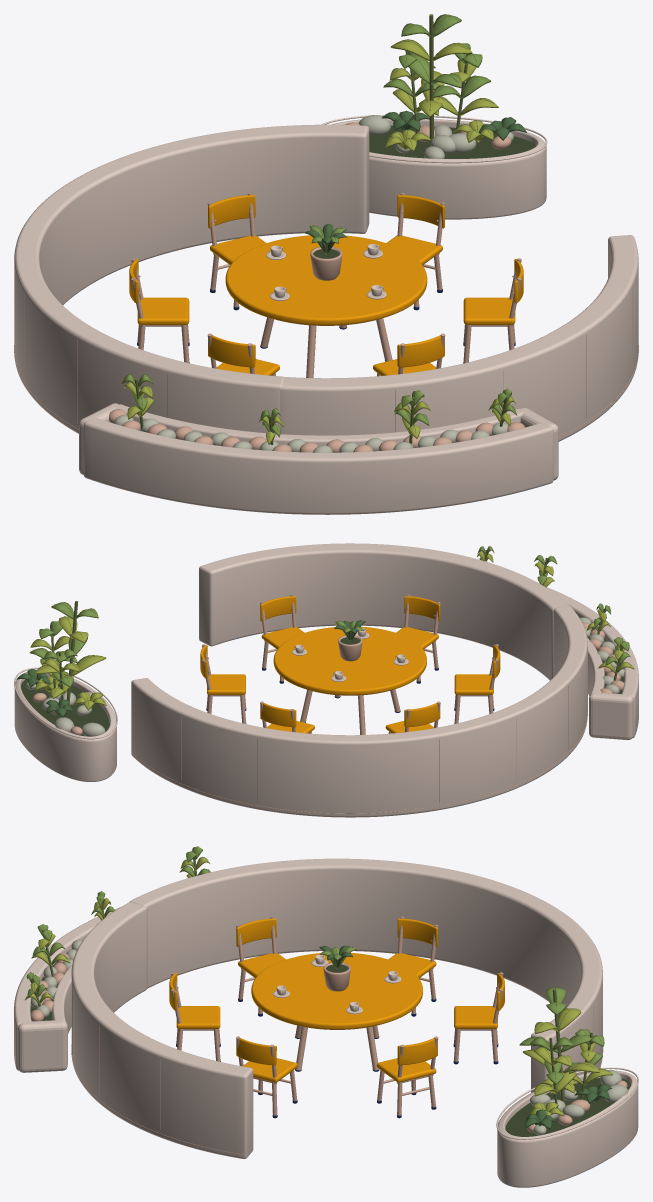
The model's file is 05_s_curve_meeting.glb.
3 renders of one model, top to bottom at view 1: azimuth 30°, elevation 25°; view 2: azimuth 150°, elevation 25°; view 3: azimuth 270°, elevation 25°, orthographic. The views are drawn at different scales.
Parts seen in each view (by area): view 1: Partitions / S-curve rear partition / Warm Ivory / Ceramic, S-curve / Curved planting trough / Warm Ivory / Ceramic, Partitions / S-curve returning partition / Warm Ivory / Cera, Tables / Round table / Mustard Yellow / Furniture.001, Planting / Ceramic planters / Warm Ivory / Ceramic.003, Planting / Leaves / Natural lime foliage.003, Planting / Leaves / Natural sage foliage.003, Planting / River stones / Natural pale river pebble.003, Planting / River stones / Soft Taupe / Recess and stone.003, Planting / Stems / Natural olive stems.003, Planting / Soil / Natural dark soil.003, Chairs / Chair 04 / Mustard Yellow / Furniture.001 (+11 smaller); view 2: Partitions / S-curve rear partition / Warm Ivory / Ceramic, Partitions / S-curve returning partition / Warm Ivory / Cera, Tables / Round table / Mustard Yellow / Furniture.001, Planting / Ceramic planters / Warm Ivory / Ceramic.003, S-curve / Curved planting trough / Warm Ivory / Ceramic, Planting / Leaves / Natural lime foliage.003, Planting / Leaves / Natural sage foliage.003, Planting / River stones / Natural pale river pebble.003, Planting / Soil / Natural dark soil.003, Planting / Stems / Natural olive stems.003, Chairs / Chair 02 / Mustard Yellow / Furniture.001, Chairs / Chair 01 / Mustard Yellow / Furniture.001 (+13 smaller); view 3: Partitions / S-curve rear partition / Warm Ivory / Ceramic, Partitions / S-curve returning partition / Warm Ivory / Cera, Tables / Round table / Mustard Yellow / Furniture.001, Planting / Ceramic planters / Warm Ivory / Ceramic.003, S-curve / Curved planting trough / Warm Ivory / Ceramic, Planting / Leaves / Natural lime foliage.003, Planting / Leaves / Natural sage foliage.003, Planting / River stones / Natural pale river pebble.003, Chairs / Chair 03 / Mustard Yellow / Furniture.001, Planting / Stems / Natural olive stems.003, Planting / Soil / Natural dark soil.003, Chairs / Chair 02 / Mustard Yellow / Furniture.001 (+14 smaller).
Part boxes in pixels (x1,y1,x2,y2): Partitions / S-curve rear partition / Warm Ivory / Ceramic: [14, 124, 369, 433]; S-curve / Curved planting trough / Warm Ivory / Ceramic: [79, 403, 558, 514]; Partitions / S-curve returning partition / Warm Ivory / Cera: [280, 235, 638, 441]; Tables / Round table / Mustard Yellow / Furniture.001: [225, 235, 427, 325]; Planting / Ceramic planters / Warm Ivory / Ceramic.003: [321, 115, 547, 219]; Planting / Leaves / Natural lime foliage.003: [124, 39, 515, 444]; Planting / Leaves / Natural sage foliage.003: [121, 14, 517, 437]; Planting / River stones / Natural pale river pebble.003: [114, 115, 513, 452]; Planting / River stones / Soft Taupe / Recess and stone.003: [109, 122, 525, 452]; Planting / Stems / Natural olive stems.003: [124, 14, 523, 444]; Planting / Soil / Natural dark soil.003: [369, 125, 535, 158]; Chairs / Chair 04 / Mustard Yellow / Furniture.001: [208, 194, 266, 264]; Partitions / S-curve rear partition / Warm Ivory / Ceramic: [131, 606, 587, 817]; Partitions / S-curve returning partition / Warm Ivory / Cera: [199, 543, 568, 680]; Tables / Round table / Mustard Yellow / Furniture.001: [273, 626, 426, 695]; Planting / Ceramic planters / Warm Ivory / Ceramic.003: [14, 667, 117, 781]; S-curve / Curved planting trough / Warm Ivory / Ceramic: [546, 587, 638, 740]; Planting / Leaves / Natural lime foliage.003: [30, 551, 634, 710]; Planting / Leaves / Natural sage foliage.003: [29, 546, 630, 687]; Planting / River stones / Natural pale river pebble.003: [26, 617, 624, 736]; Planting / Soil / Natural dark soil.003: [20, 679, 109, 736]; Planting / Stems / Natural olive stems.003: [19, 546, 631, 712]; Chairs / Chair 02 / Mustard Yellow / Furniture.001: [260, 596, 304, 649]; Chairs / Chair 01 / Mustard Yellow / Furniture.001: [396, 596, 440, 649]; Partitions / S-curve rear partition / Warm Ivory / Ceramic: [130, 858, 602, 1092]; Partitions / S-curve returning partition / Warm Ivory / Cera: [71, 902, 253, 1158]; Tables / Round table / Mustard Yellow / Furniture.001: [251, 952, 422, 1029]; Planting / Ceramic planters / Warm Ivory / Ceramic.003: [496, 1067, 638, 1187]; S-curve / Curved planting trough / Warm Ivory / Ceramic: [14, 907, 120, 1072]; Planting / Leaves / Natural lime foliage.003: [24, 857, 612, 1116]; Planting / Leaves / Natural sage foliage.003: [26, 846, 604, 1084]; Planting / River stones / Natural pale river pebble.003: [31, 939, 628, 1135]; Chairs / Chair 03 / Mustard Yellow / Furniture.001: [376, 1038, 437, 1082]; Planting / Stems / Natural olive stems.003: [26, 846, 609, 1124]; Planting / Soil / Natural dark soil.003: [505, 1078, 630, 1136]; Chairs / Chair 02 / Mustard Yellow / Furniture.001: [236, 1038, 297, 1082].
Size of the model in its own units: 6.83 by 1.96 by 6.84.
